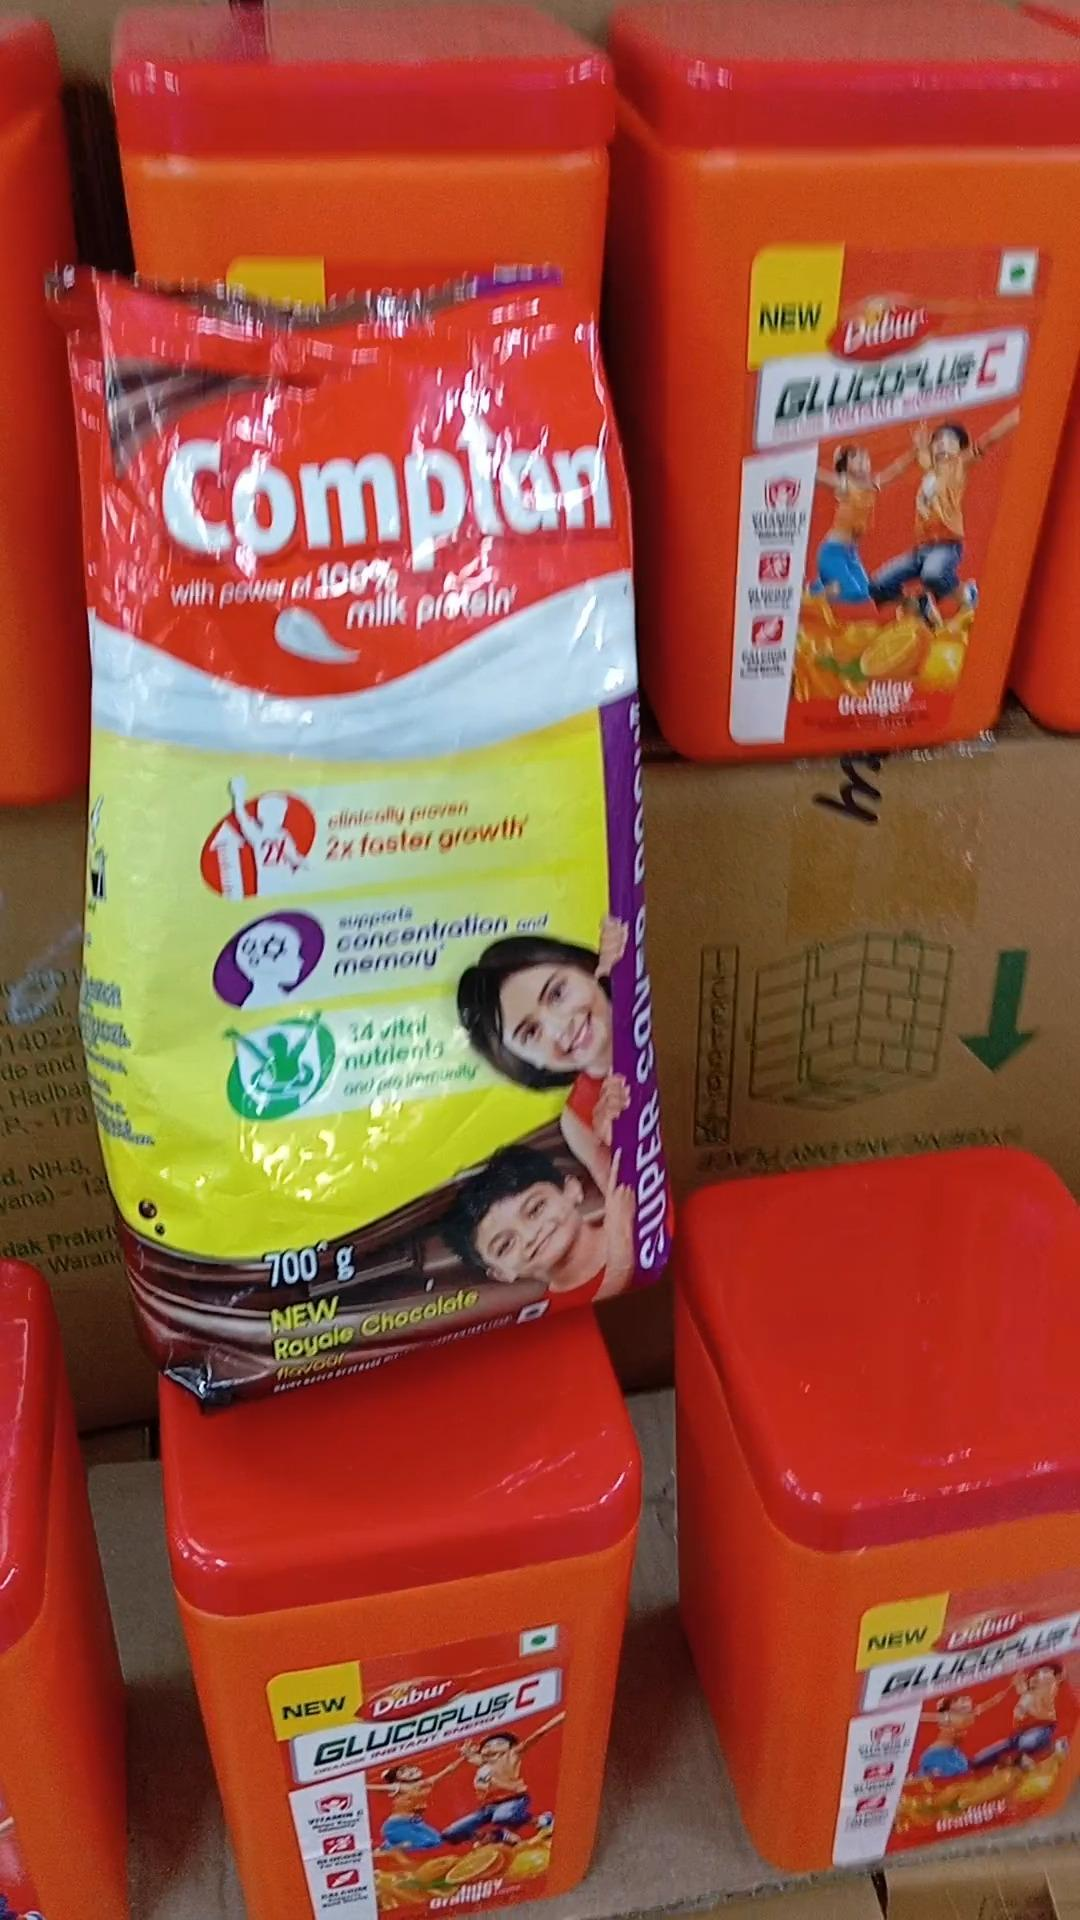COMPLAN_RC_POUCH_700_GMS_12: (94, 268, 658, 1337)
